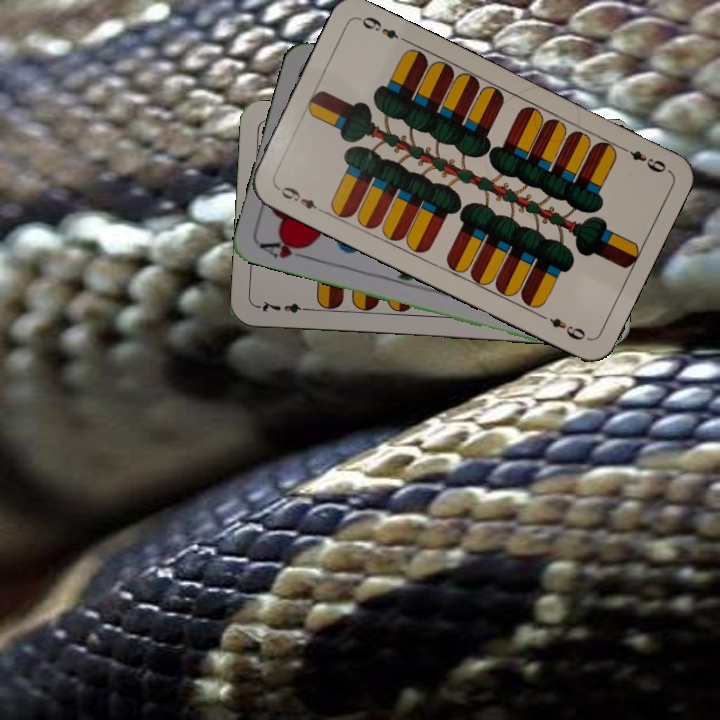E7: (255, 296, 314, 316)
E9: (273, 182, 328, 216), (615, 142, 669, 175)
HA: (256, 234, 315, 263)
